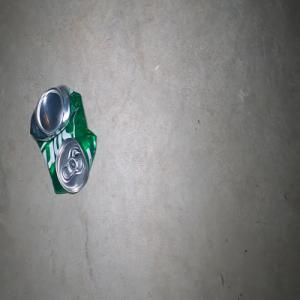SodaCan: (29, 84, 96, 194)
